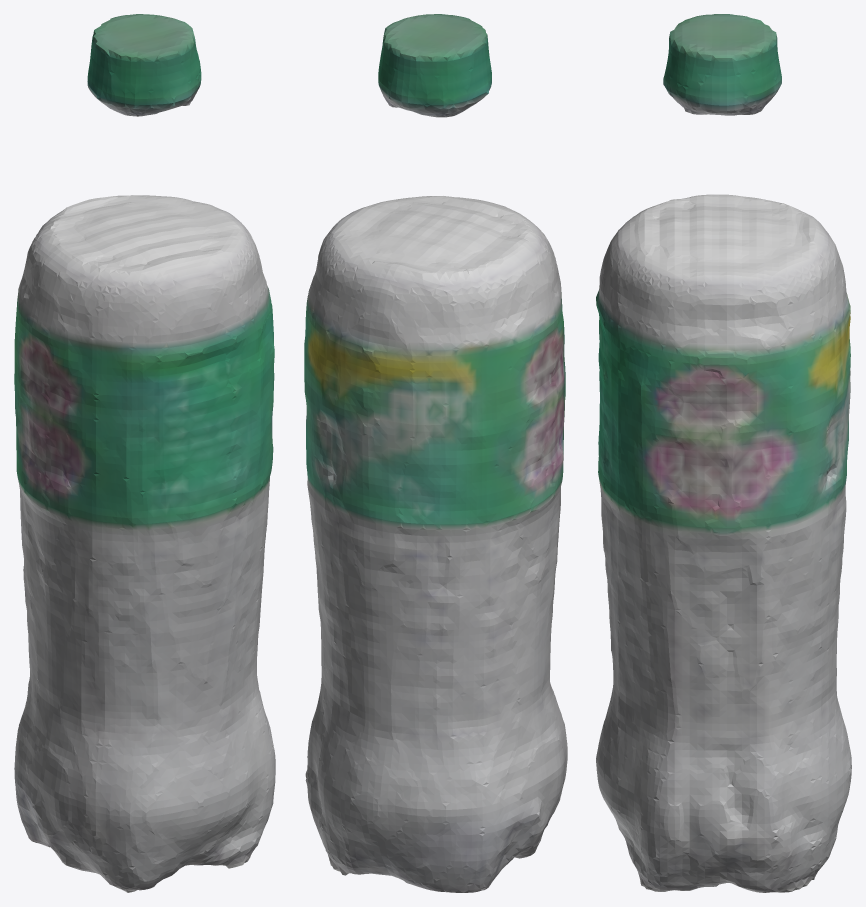
File: plastic_bottle.glb
3 renders of one model, left to right at view 1: azimuth 30°, elevation 25°; view 2: azimuth 150°, elevation 25°; view 3: azimuth 270°, elevation 25°, orthographic.
Visible parts, largest first — view 1: world; view 2: world; view 3: world.
Boxes of the visible parts, x1,y1,x2,y2 form: world: (14, 14, 275, 892); world: (304, 14, 567, 892); world: (596, 14, 851, 892).
Bounding box in the file's own units: 0.5638 × 2 × 0.561.
